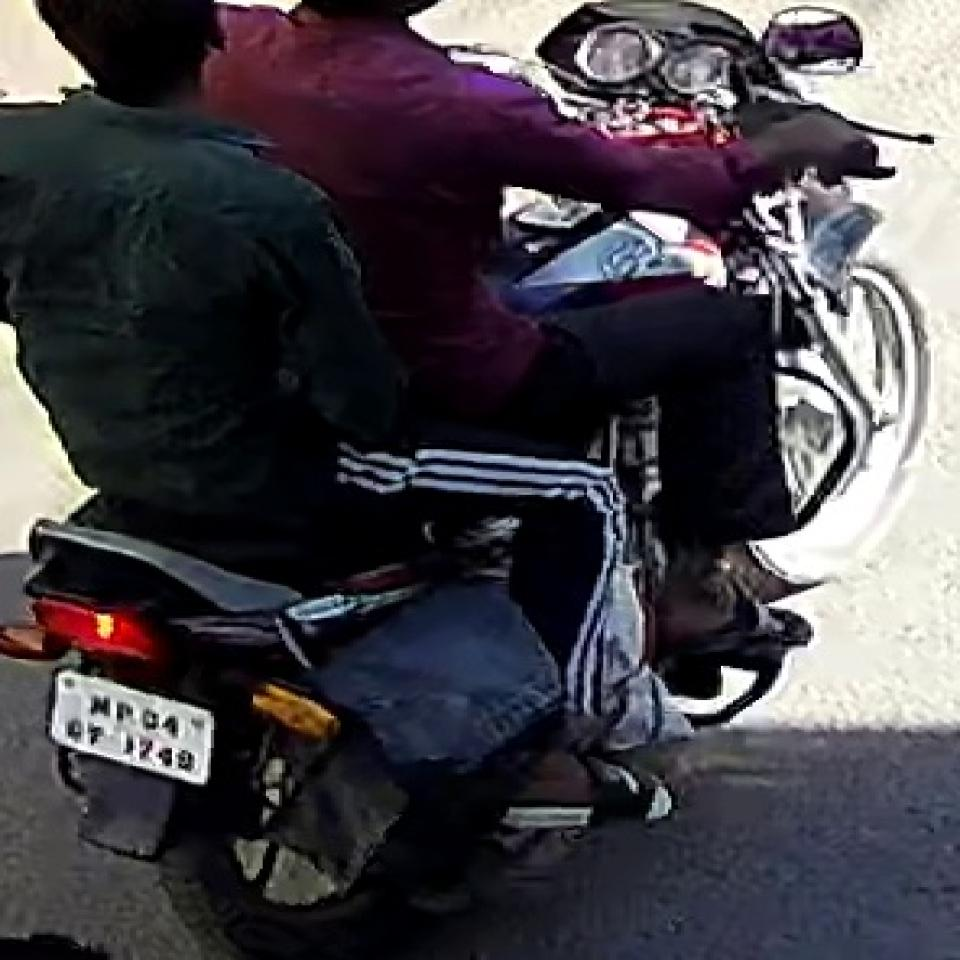tail_light: (24, 593, 162, 658)
